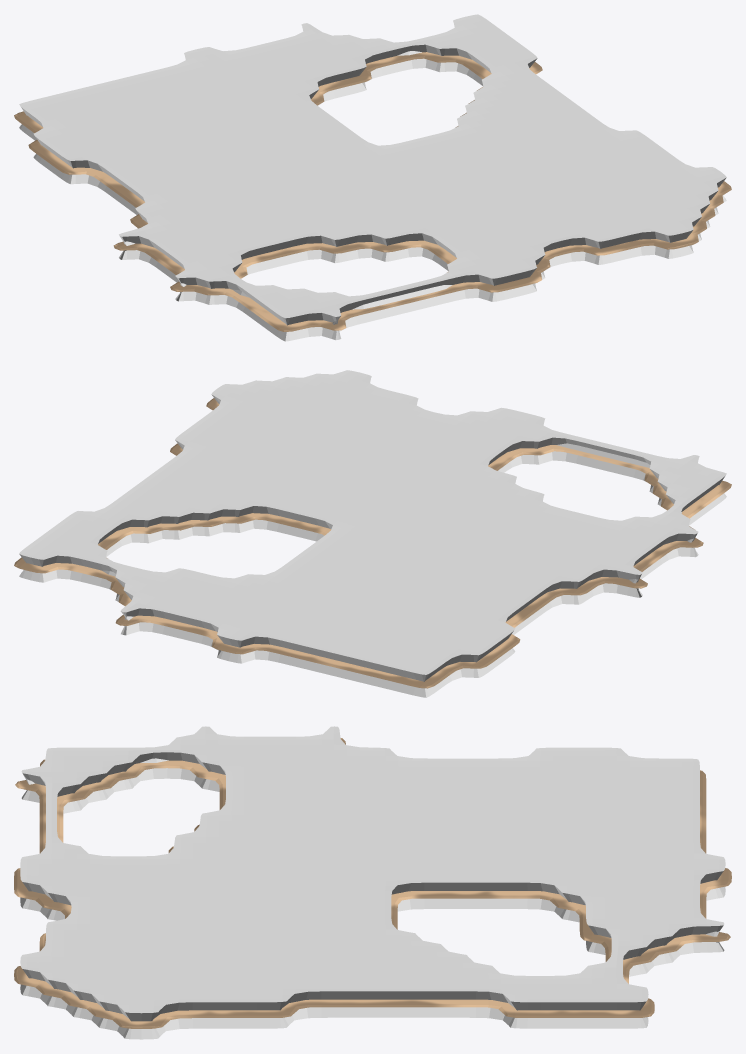
The model's file is cloth.fbx.
The picture shows the model from 3 angles, top to bottom: view 1: azimuth 30°, elevation 25°; view 2: azimuth 150°, elevation 25°; view 3: azimuth 270°, elevation 25°; orthographic projection. The views are drawn at different scales.
Visible parts, largest first — view 1: Plane; view 2: Plane; view 3: Plane.
Boxes of the visible parts, x1,y1,x2,y2 form: Plane: (14,14,731,341); Plane: (14,370,731,697); Plane: (14,726,731,1039).
Size of the model in its own units: 173 by 7.33 by 180.
